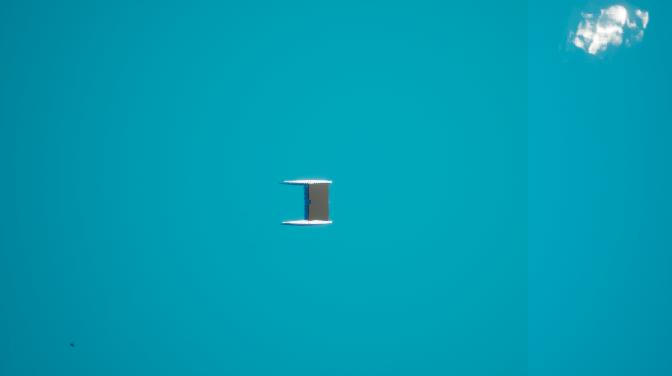boat: (282, 179, 334, 227)
drone: (68, 340, 77, 351)
land_base: (309, 185, 329, 219)
light_reflex: (563, 1, 659, 66)
